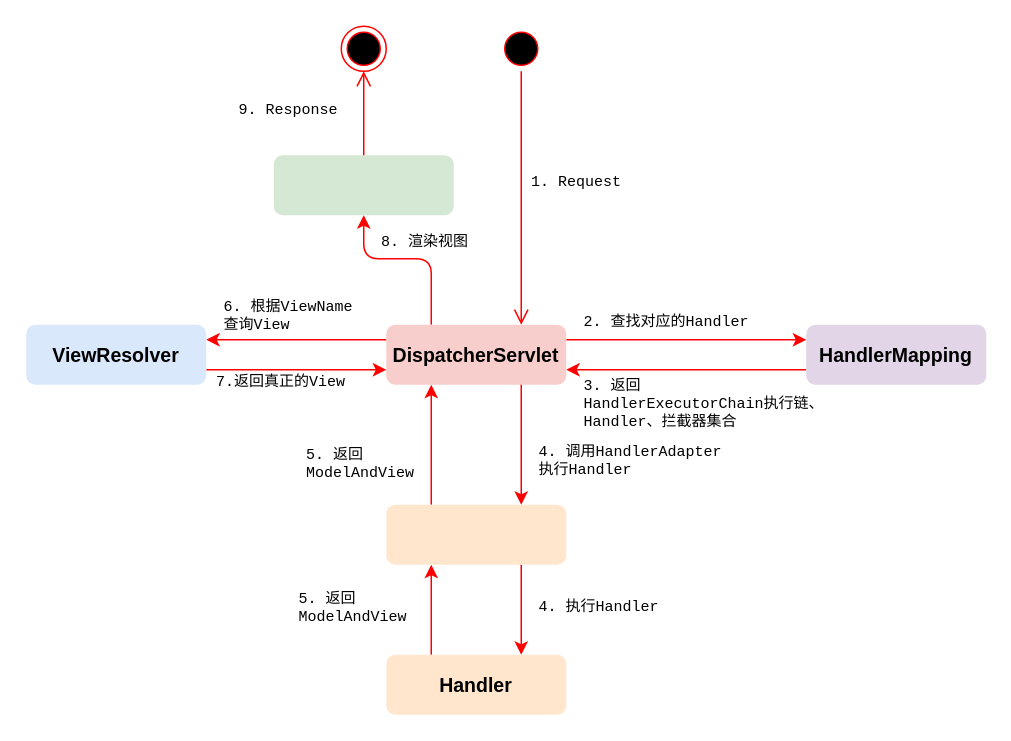
Some shapes in this 1011 by 741 pixel diagram are drawn without their labels. Here are the shapes that lost their labels. From the top down, the centre of each, then its label:
At (x=363, y=184): "View".
At (x=476, y=534): "HandlerAdapter".
